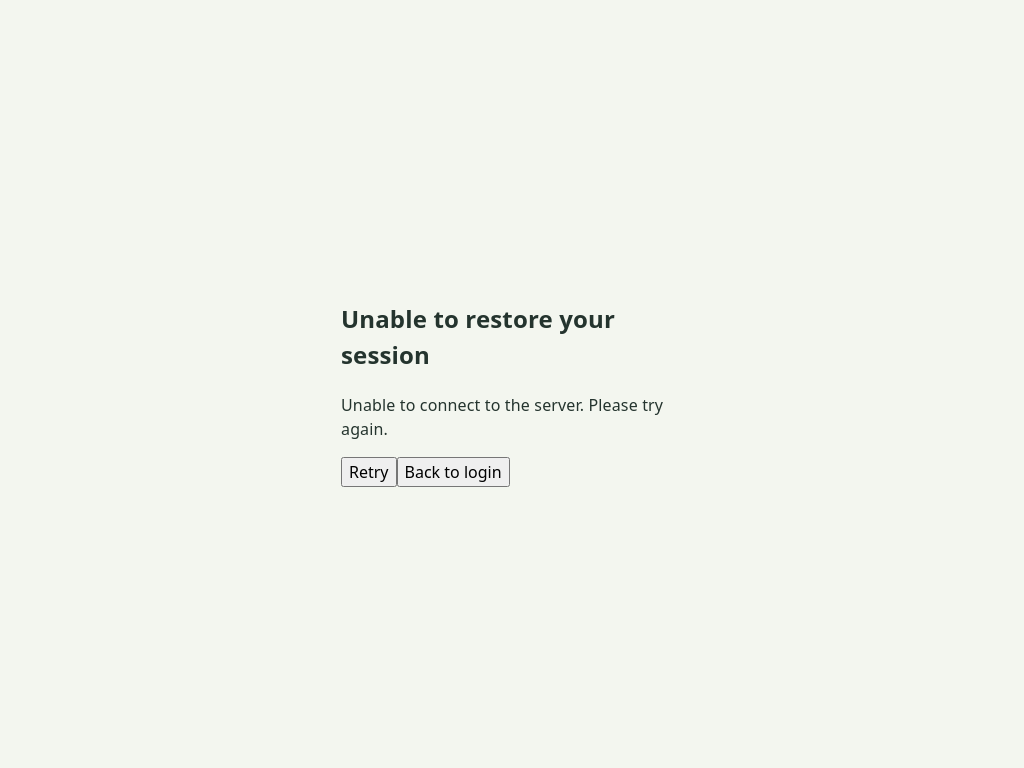
Test: connection failures preserve the session and allow retry
Check: the message shows "Unable to connect", box [341,394,663,440]
Click the button "Retry": (369, 472) [341,457,396,487]
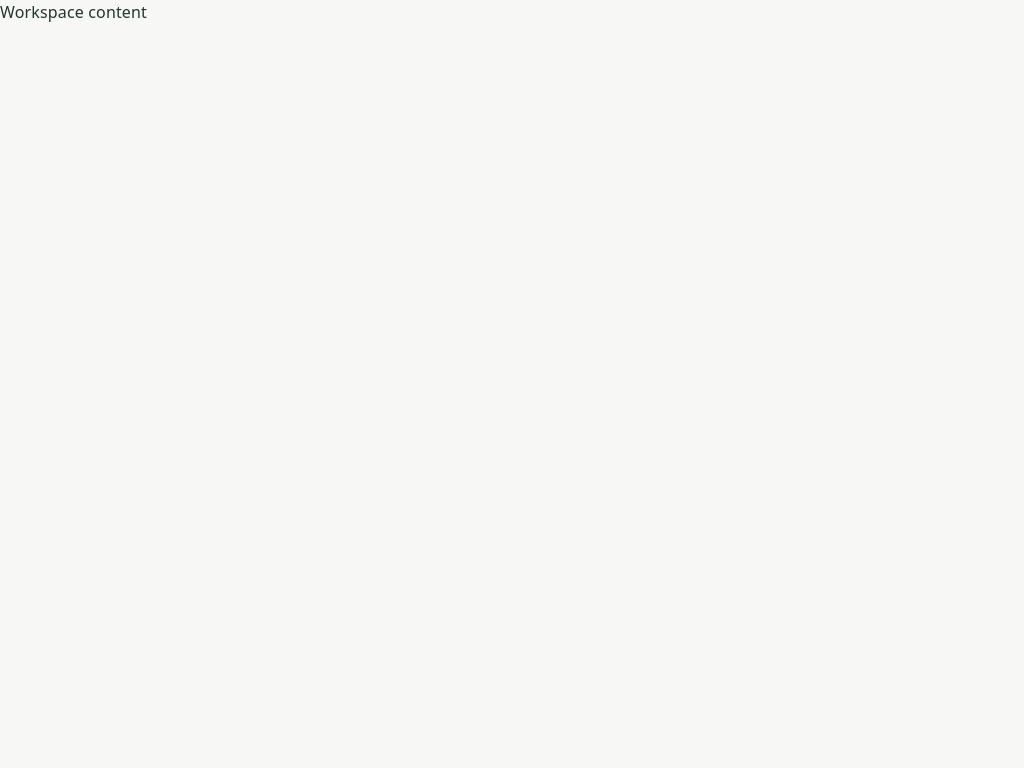
Check: the text "Workspace content" is shown, box [0,1,147,23]
